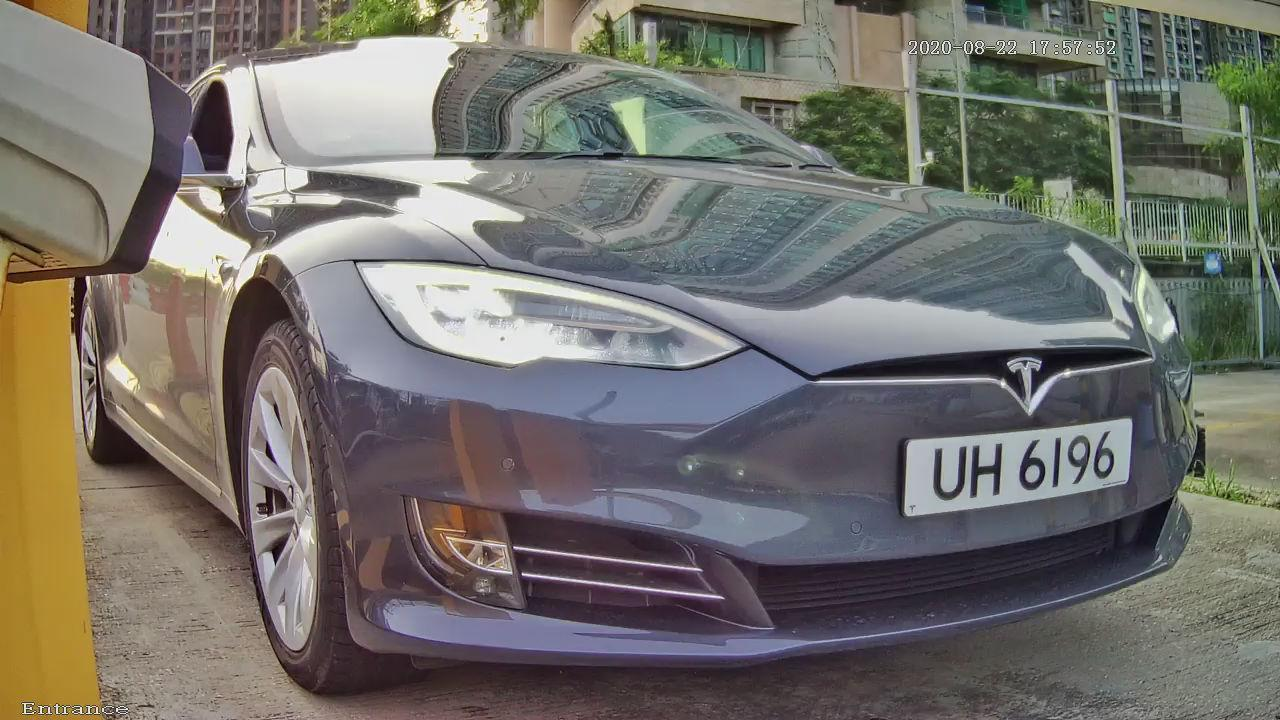License Plate: (835, 384, 1168, 543)
